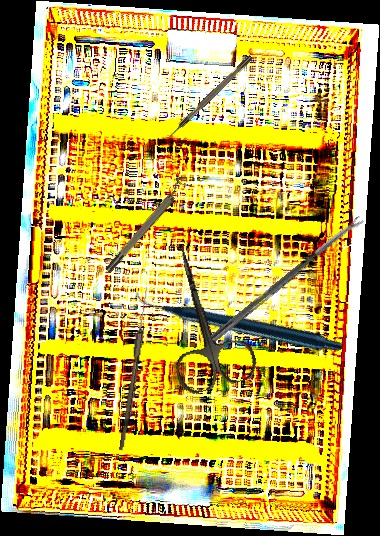Fixation Ring: (99, 174, 193, 275)
Handpiece: (133, 212, 345, 429)
Hook Surgical: (164, 54, 254, 142)
Iris Scissors: (144, 236, 261, 398)
Surgical Spoon: (209, 215, 365, 344), (119, 286, 150, 452)
